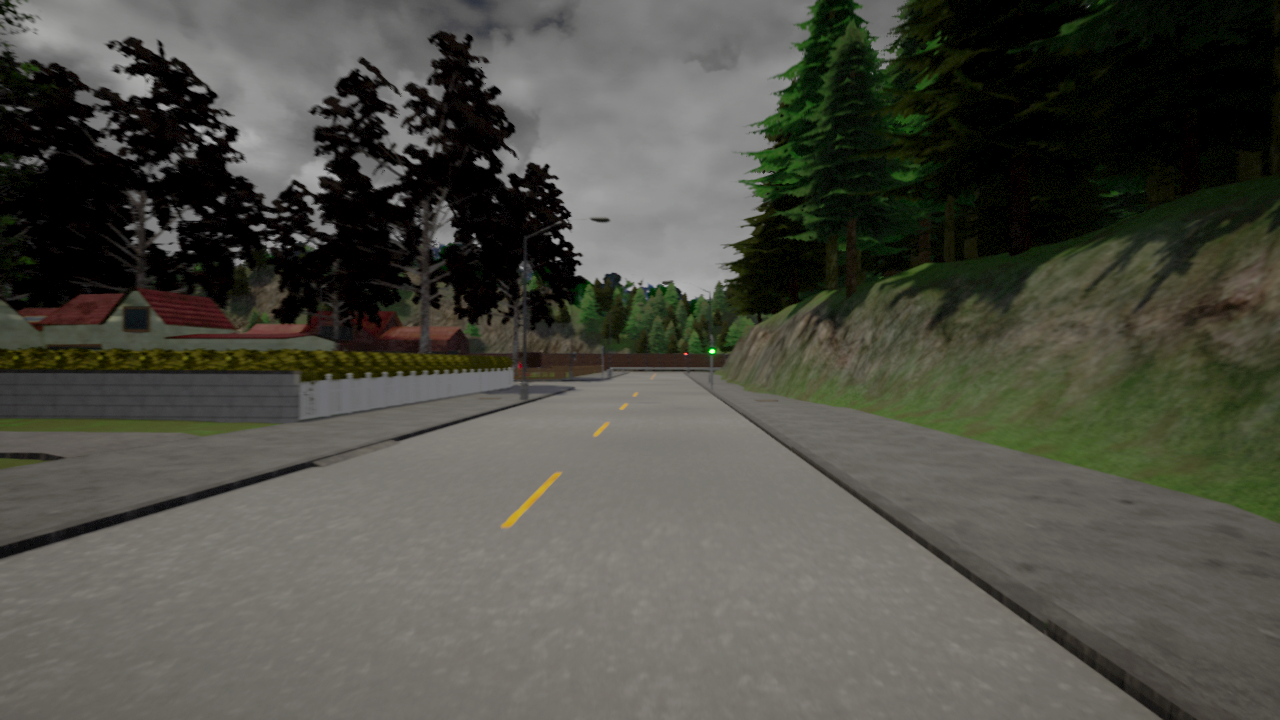green: (709, 340, 716, 355)
